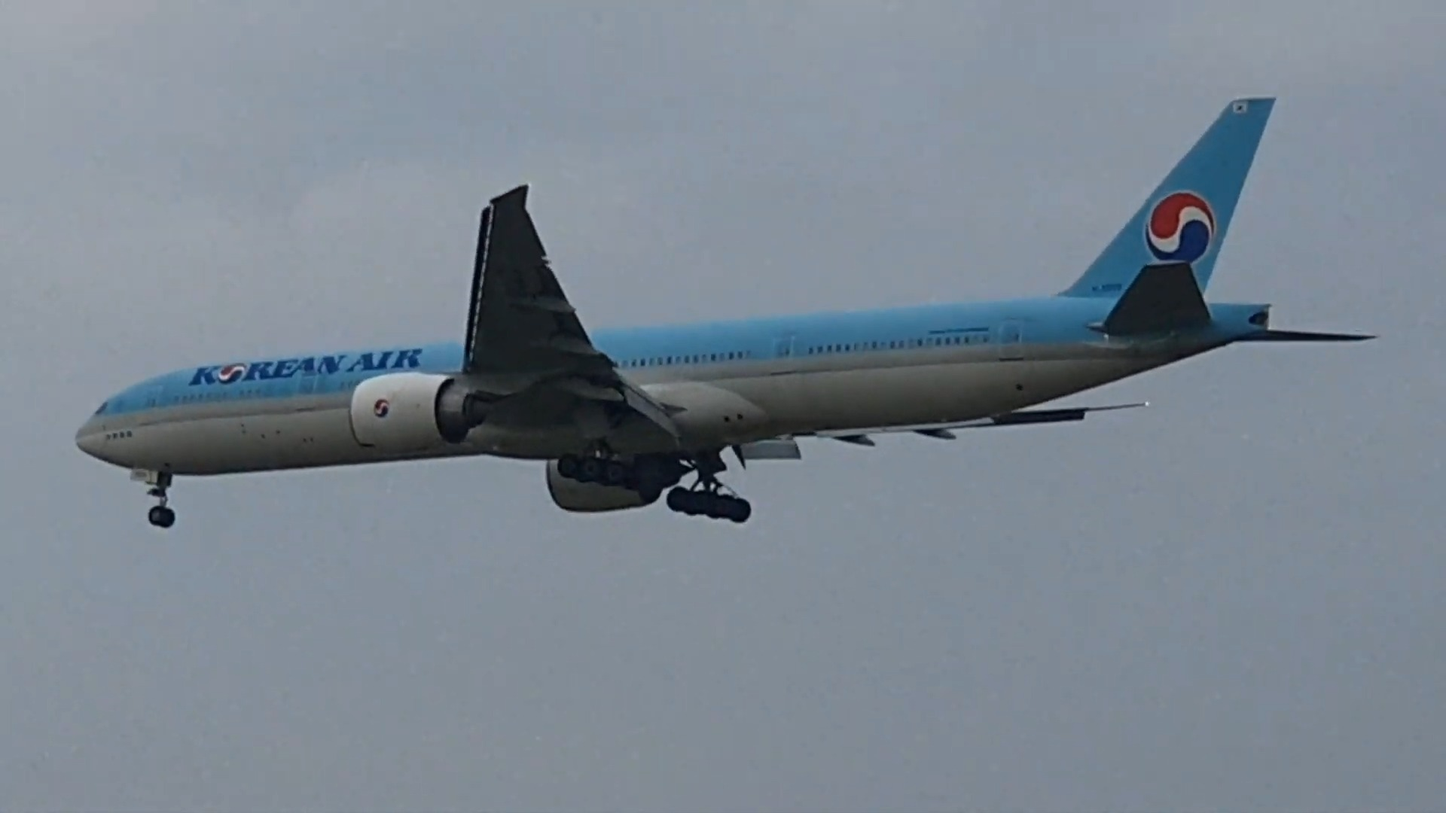airplane: (72, 94, 1446, 541)
